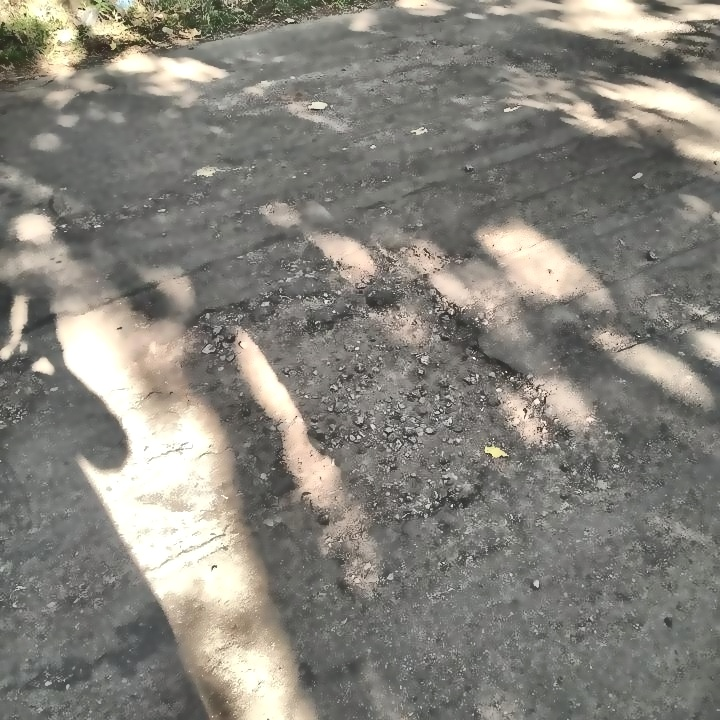pothole: (176, 272, 575, 538)
